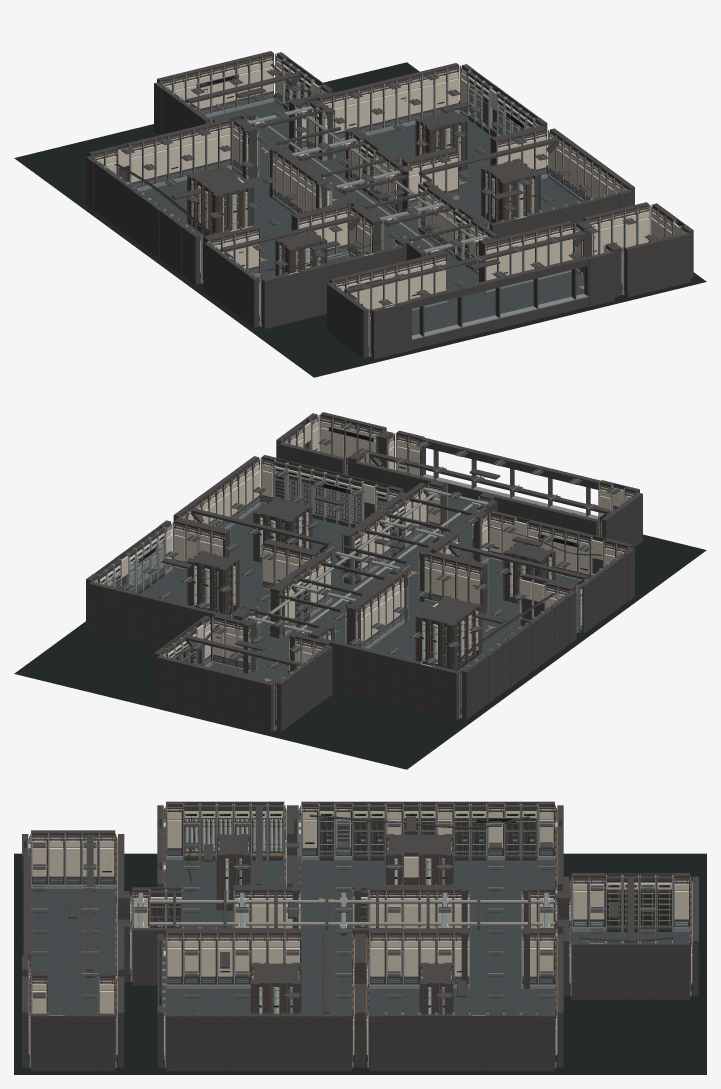
Rendered from facility.glb.
3 renders of one model, top to bottom at view 1: azimuth 30°, elevation 25°; view 2: azimuth 150°, elevation 25°; view 3: azimuth 270°, elevation 25°, orthographic. The views are drawn at different scales.
Parts seen in each view (by area): view 1: sector-observation, sector-maintenance, sector-spine, sector-infirmary, sector-power, sector-archive, sealed-pressure-envelope, sector-ingress, sector-evacuation; view 2: sector-maintenance, sealed-pressure-envelope, sector-infirmary, sector-spine, sector-archive, sector-ingress, sector-observation, sector-power, sector-evacuation; view 3: sector-maintenance, sector-archive, sector-infirmary, sealed-pressure-envelope, sector-spine, sector-ingress, sector-observation, sector-power, sector-evacuation.
Part boxes in pixels (left/top/right/bottom): sector-observation: left=327, top=220, right=617, bottom=359; sector-maintenance: left=86, top=119, right=344, bottom=284; sector-spine: left=238, top=100, right=497, bottom=301; sector-infirmary: left=314, top=63, right=547, bottom=208; sector-power: left=203, top=204, right=406, bottom=328; sector-archive: left=404, top=127, right=634, bottom=253; sealed-pressure-envelope: left=14, top=62, right=706, bottom=377; sector-ingress: left=154, top=51, right=332, bottom=165; sector-evacuation: left=581, top=202, right=693, bottom=297; sector-maintenance: left=314, top=553, right=576, bottom=720; sealed-pressure-envelope: left=14, top=493, right=706, bottom=769; sector-infirmary: left=86, top=519, right=318, bottom=661; sector-spine: left=238, top=481, right=497, bottom=675; sector-archive: left=173, top=455, right=406, bottom=585; sector-ingress: left=154, top=614, right=332, bottom=732; sector-observation: left=352, top=430, right=642, bottom=548; sector-power: left=431, top=510, right=634, bottom=633; sector-evacuation: left=276, top=412, right=388, bottom=476; sector-maintenance: left=284, top=801, right=563, bottom=938; sector-archive: left=157, top=930, right=360, bottom=1071; sector-infirmary: left=354, top=930, right=563, bottom=1071; sealed-pressure-envelope: left=14, top=853, right=706, bottom=1074; sector-spine: left=123, top=884, right=563, bottom=988; sector-ingress: left=555, top=873, right=698, bottom=999; sector-observation: left=22, top=830, right=124, bottom=1015; sector-power: left=157, top=801, right=293, bottom=929; sector-evacuation: left=22, top=973, right=124, bottom=1071.
Size of the model in its own units: 31 by 3.62 by 41.
Materials: 16 (6 with a texture image).
